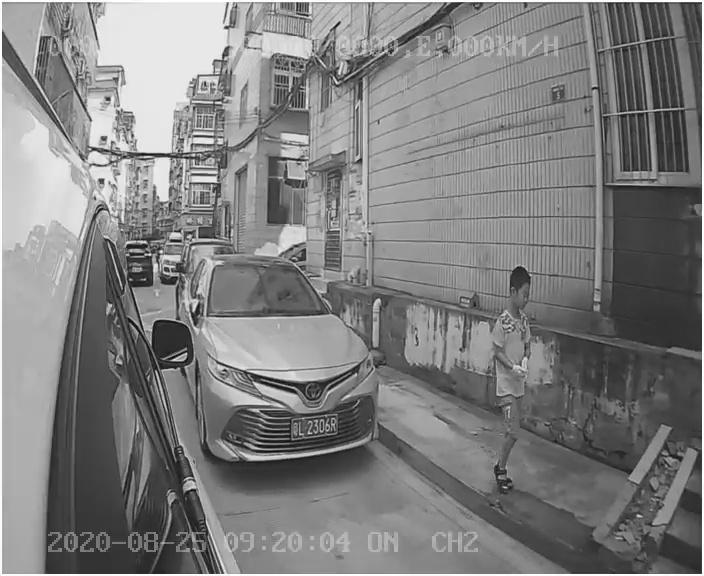person: (464, 263, 558, 501)
